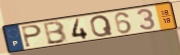3: (136, 8, 157, 32)
4: (71, 17, 90, 41)
6: (114, 11, 134, 35)
B: (43, 20, 69, 46)
P: (20, 24, 43, 48)
Q: (89, 14, 115, 38)
